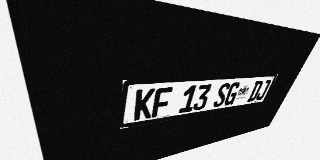1: (178, 85, 199, 113)
3: (192, 84, 212, 111)
D: (247, 80, 264, 102)
F: (151, 87, 173, 118)
G: (223, 82, 242, 106)
J: (255, 80, 272, 101)
K: (133, 88, 155, 121)
S: (212, 83, 231, 108)
